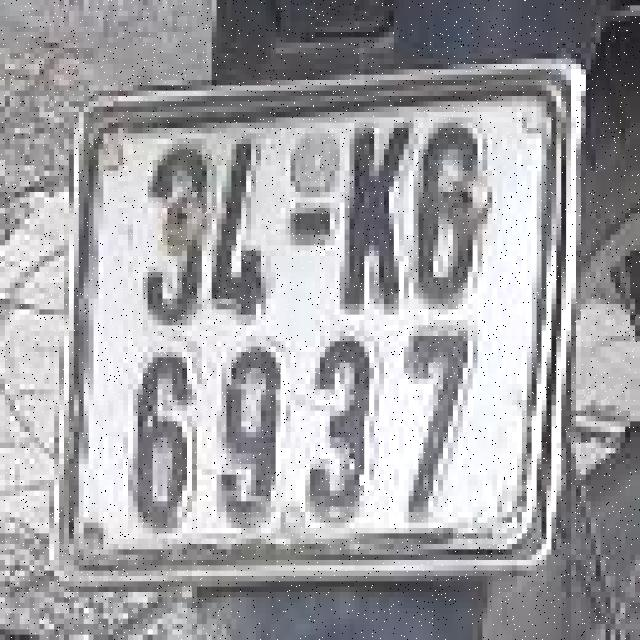3: (300, 336, 379, 523), (140, 130, 210, 322)
4: (202, 123, 276, 325)
6: (409, 112, 492, 315), (130, 344, 200, 531)
7: (394, 320, 482, 523)
9: (219, 336, 288, 528)
K: (334, 112, 414, 320)
